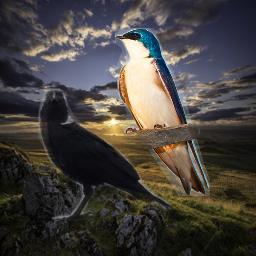Crow: (37, 88, 171, 221)
Swallow: (115, 28, 210, 196)
